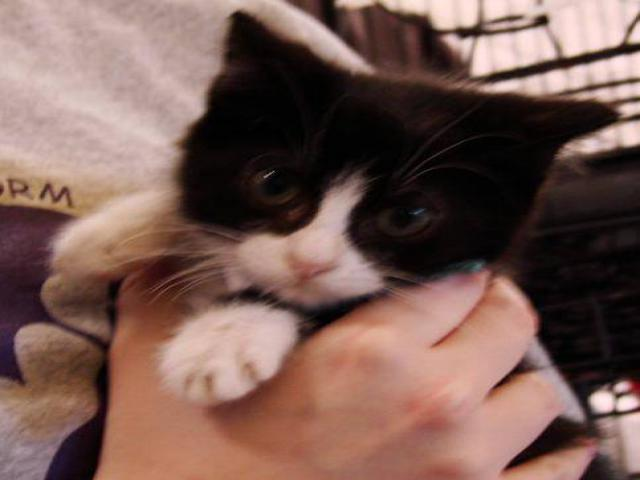cat: (73, 8, 611, 395)
